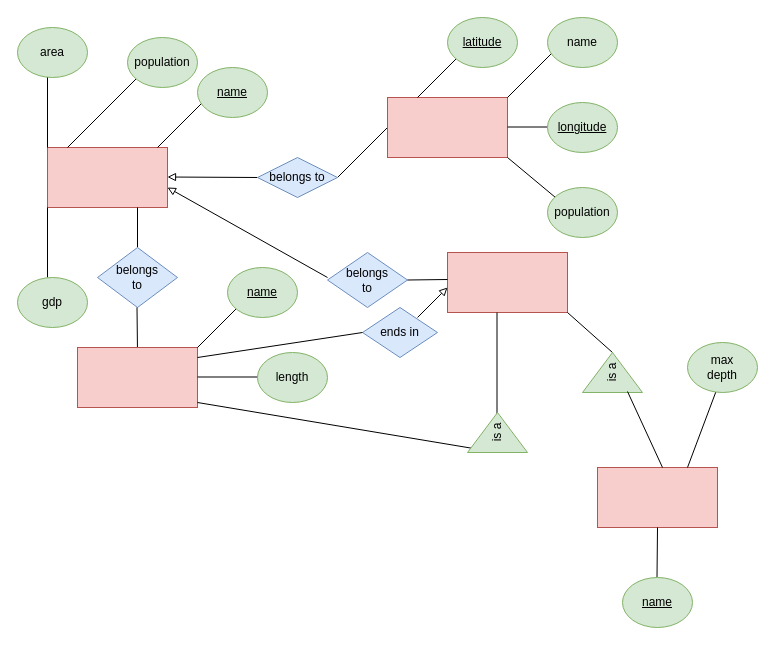
The diagram is 775 pixels wide and 645 high, and some of its shapes have lost their labels. Each missing label, with the box of its shape:
City: (386, 96, 508, 158)
Country: (46, 146, 168, 208)
River: (76, 346, 198, 408)
Sea: (596, 466, 718, 528)
Water Entity: (446, 252, 568, 312)
